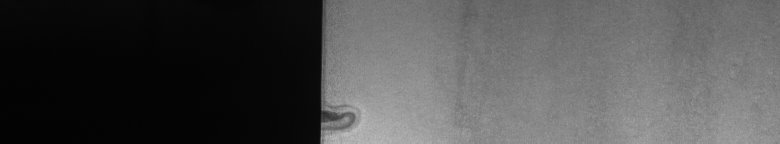hb: (332, 94, 364, 136)
